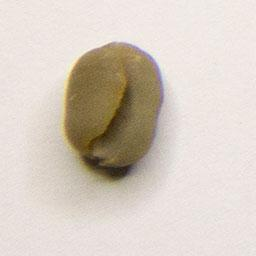peaberry: (59, 39, 167, 173)
